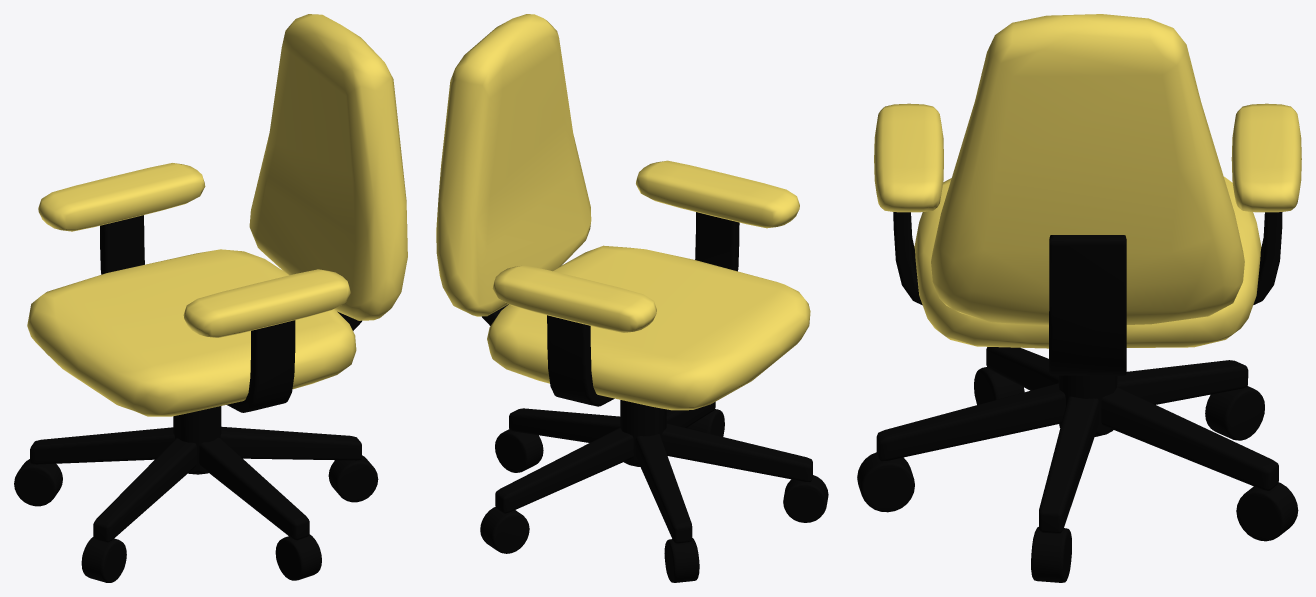
File: office_chair_yellow.fbx
3 views of the same model, side by side, from view 1: azimuth 30°, elevation 25°; view 2: azimuth 150°, elevation 25°; view 3: azimuth 270°, elevation 25° (orthographic). The views are drawn at different scales.
Parts seen in each view (by area): view 1: office_chair_yellow; view 2: office_chair_yellow; view 3: office_chair_yellow.
Part boxes in pixels (x1=…): office_chair_yellow: x1=14, y1=14, x2=407, y2=582; office_chair_yellow: x1=436, y1=14, x2=828, y2=582; office_chair_yellow: x1=857, y1=14, x2=1301, y2=582.
Size of the model in its own units: 76.26 by 103 by 73.42.
Materials: 2 (2 with a texture image).
